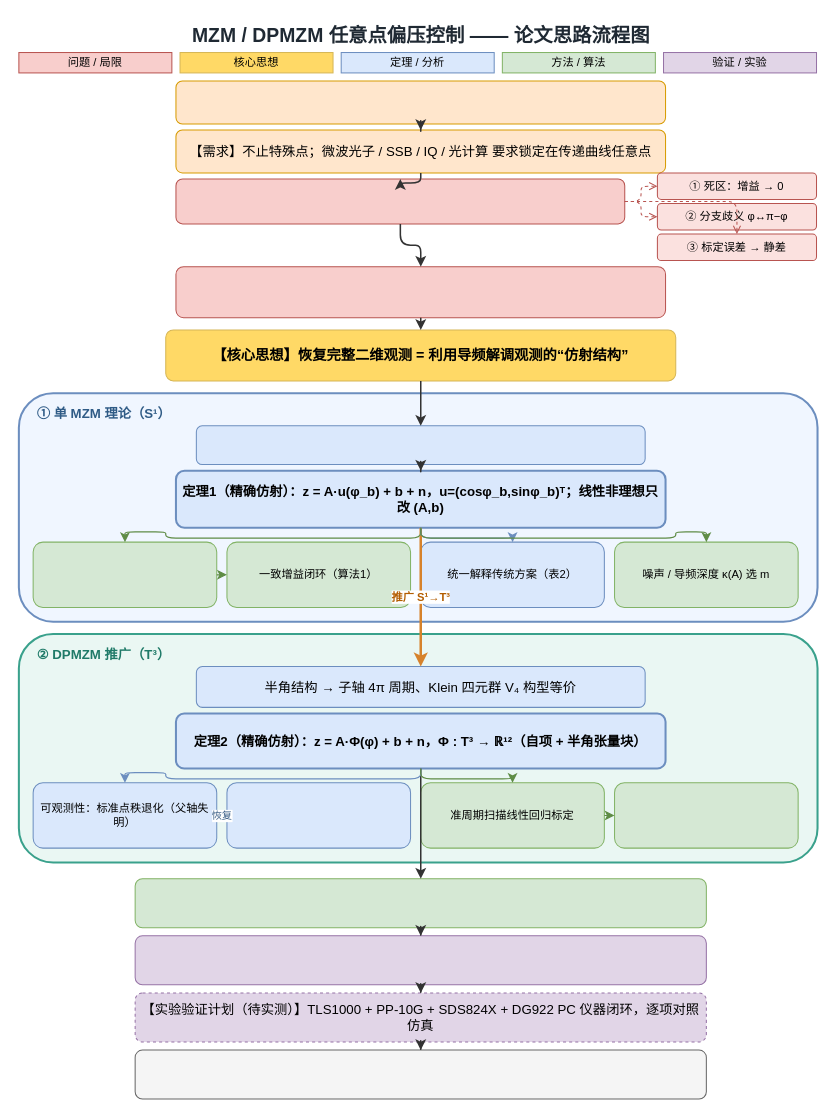
Image size: 838x1117. Some labels were removed from this diagram. Here are the shapes that lost their labels. From the top down, the centre of each, then its label:
At (420,102): "【问题】MZM 偏压随温漂 / 电荷 / 光折变缓慢漂移 → 需业务不中断的在线闭环控制".
At (400,201): "【传统】单标量谐波（幅值匹配 / 比值）外推到任意点 → 三类结构性问题".
At (420,292): "【根源】把二维相位（S¹ 上位置）压成单一标量；命题1 拓扑障碍（Rolle）：必有零增益点、不可单射".
At (420,445): "引理：cos(φ_b+ξ) = cosφ_b·cosξ − sinφ_b·sinξ（偏置与导频因子化）".
At (124,574): "自标定：椭圆辨识 → 规范固定 → atan".
At (318,815): "加 IMD 通道恢复满秩（命题2）".
At (706,815): "热启动高斯–牛顿解调（算法3）".
At (420,903): "【统一控制算法（算法2/3）】标定 → 运行（解调 → PI → 残差监测）→ 残差越限触发微幅弧重定标".
At (420,960): "【数值验证】零噪声闭合到精度；含噪 mrad 级；任意点静差较多环基线降 1–2 个数量级".
At (420,1074): "【讨论 / 结论】适用边界：接收链非线性、偏压相关吸收、持续激励；展望嵌套 / 偏振复用 + 半参数化".
